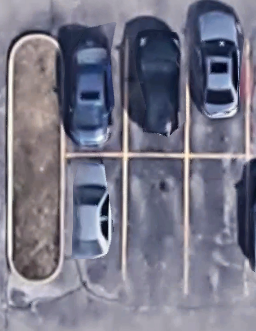Occupied: (63, 155, 124, 280), (63, 34, 126, 155), (126, 33, 187, 156), (188, 34, 248, 155)
Vacant: (124, 155, 186, 280), (185, 157, 248, 280)
